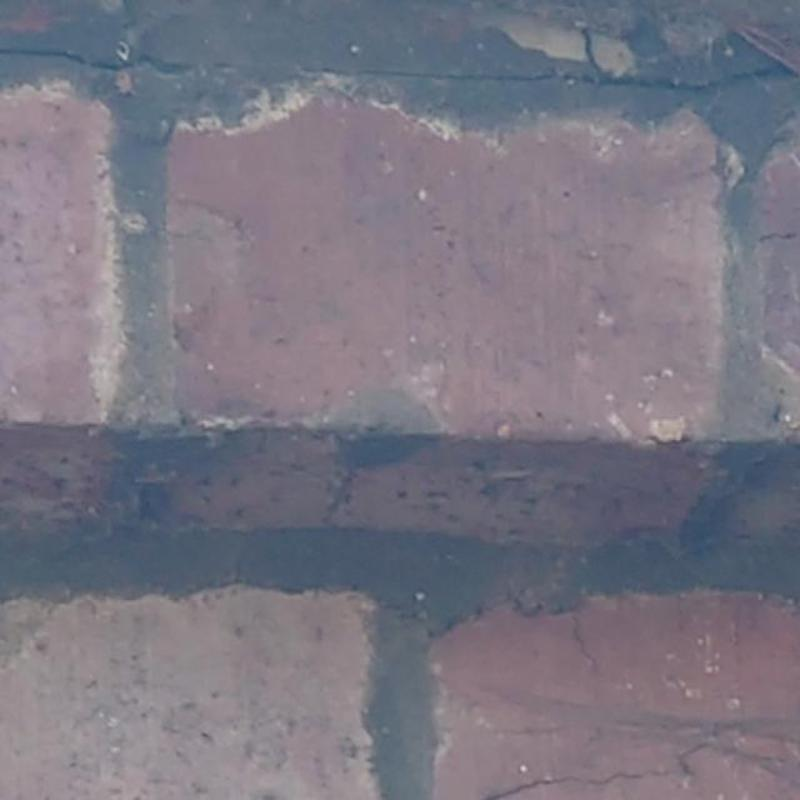pothole: (317, 27, 784, 92), (486, 768, 674, 799), (0, 49, 202, 76), (569, 609, 599, 670), (681, 742, 718, 776)
